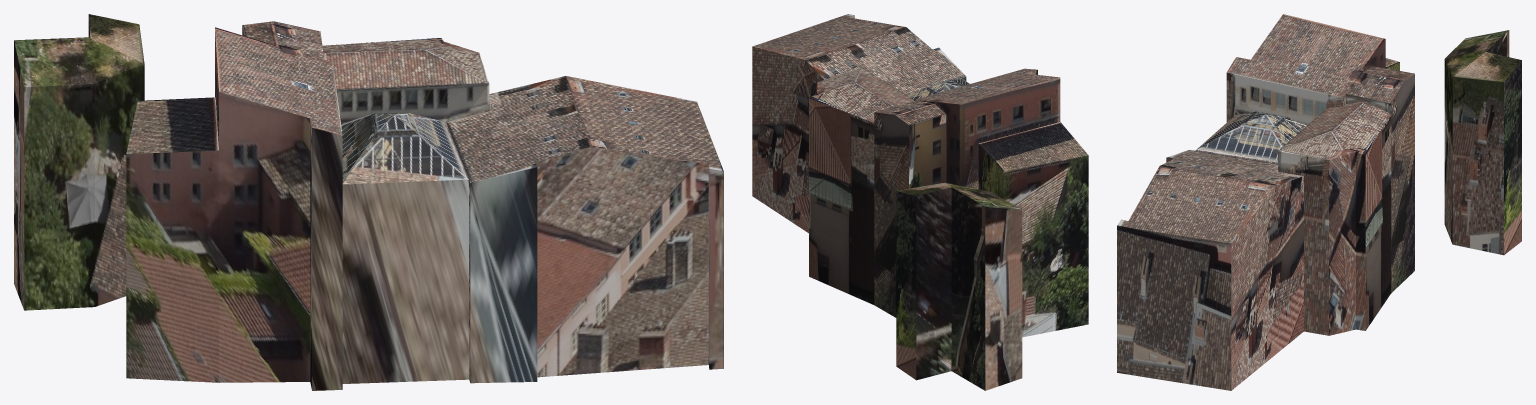
3 views of the same model, side by side, from view 1: azimuth 30°, elevation 25°; view 2: azimuth 150°, elevation 25°; view 3: azimuth 270°, elevation 25° (orthographic). The views are drawn at different scales.
Visible parts, largest first — view 1: Z_UP; view 2: Z_UP; view 3: Z_UP.
Part boxes in pixels (bbox=[...]): Z_UP: bbox=[14, 14, 723, 390]; Z_UP: bbox=[752, 14, 1088, 390]; Z_UP: bbox=[1117, 14, 1521, 390].
Bounding box in the file's own units: 44.6 × 24.08 × 40.86.
Materials: 2 (1 with a texture image).
